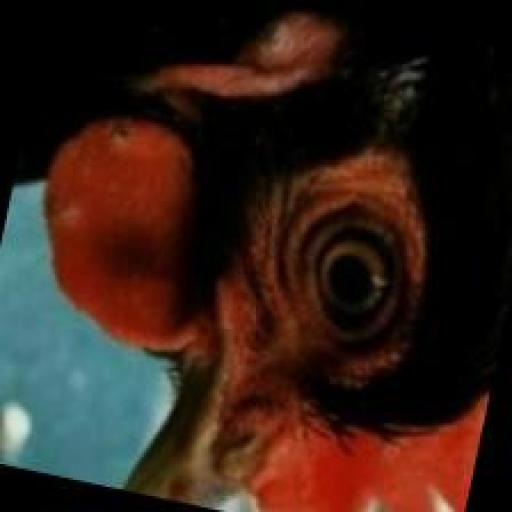disease: (43, 100, 164, 245)
